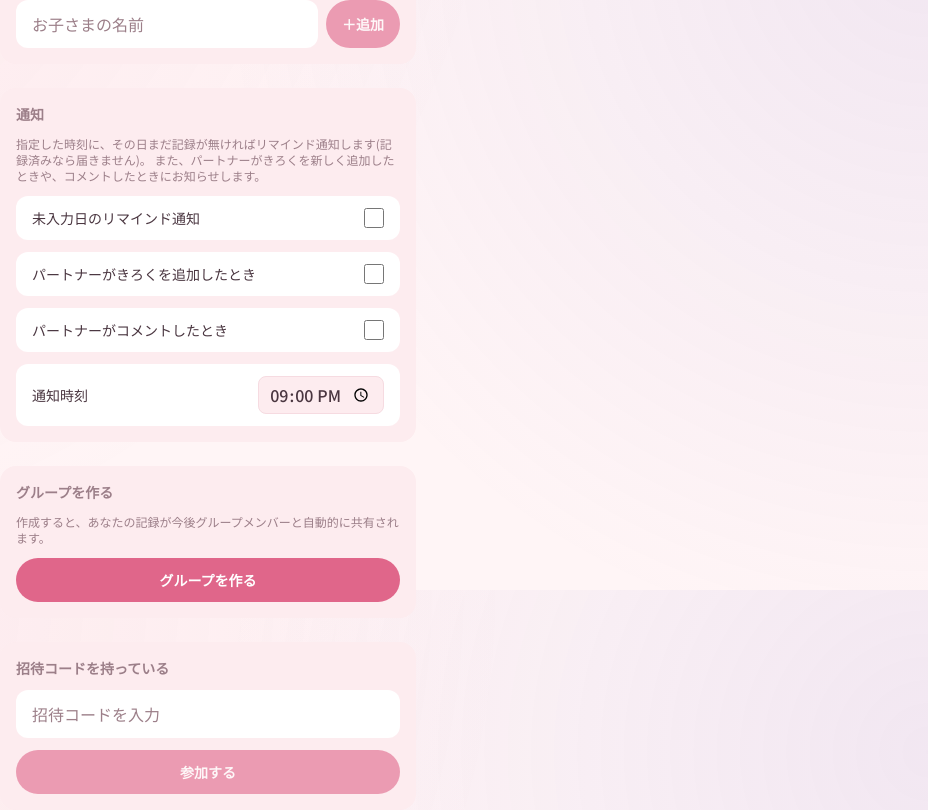
Scenario: GroupPage: グループ操作 › 作成すると招待コードの発行まで続けて行う
(page scrolled)
Click the button "グループを作る" at (208, 580), box [16, 558, 400, 602]
(page scrolled)
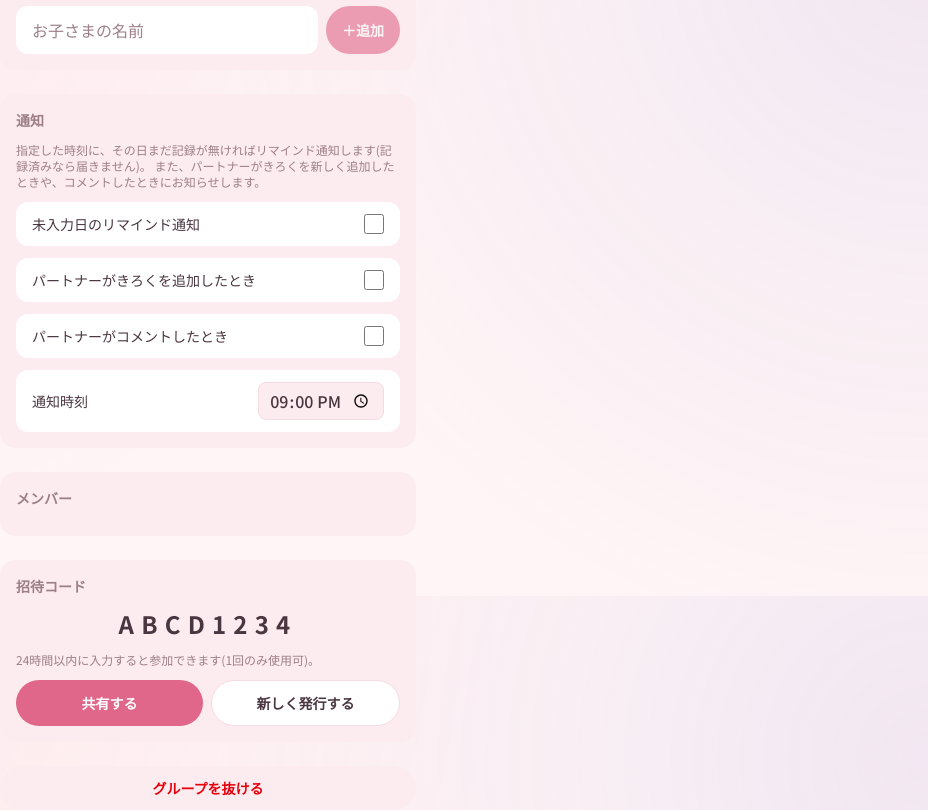
Result: the text "ABCD1234" is shown at [119, 606, 298, 641]
